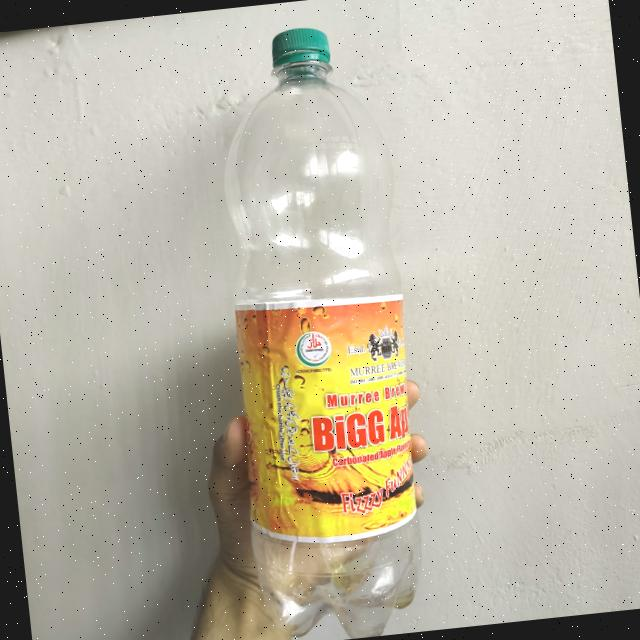bottle: (204, 7, 433, 635)
cap: (264, 18, 332, 82)
label: (224, 290, 421, 553)
